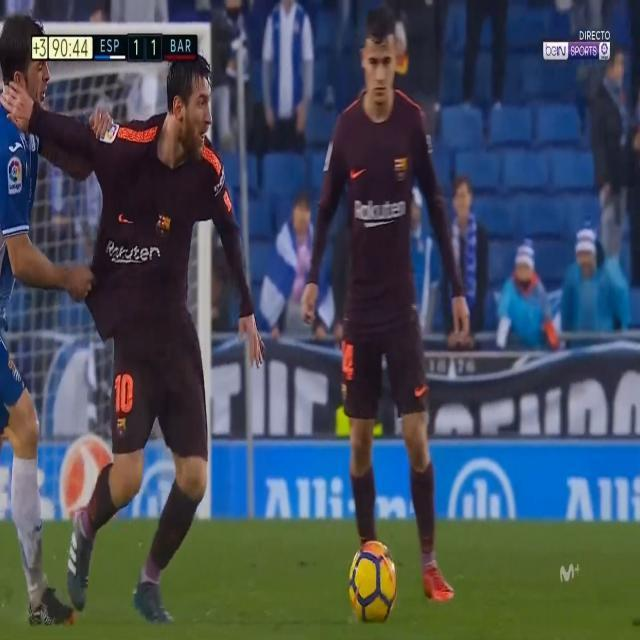ball: (335, 516, 403, 638)
player: (302, 0, 464, 615), (90, 48, 253, 632)
